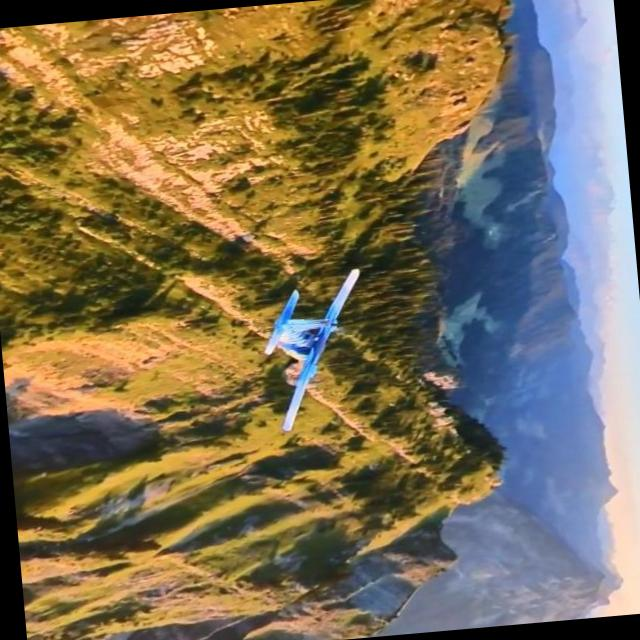UAV: (216, 266, 396, 484)
